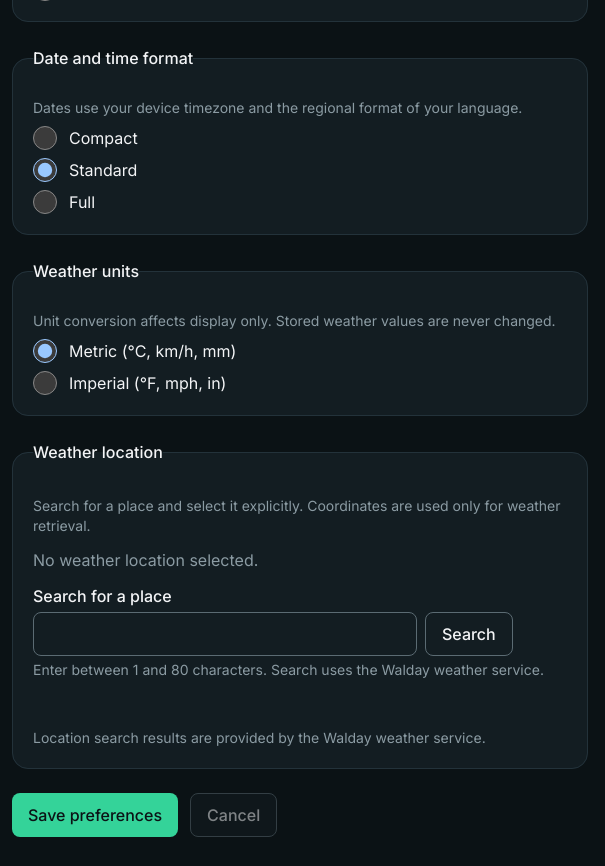
Test: weather location selection (US5) › selects and clears a location explicitly
(page scrolled)
Type "Madrid" into the field labelled "Search for a place".
click(225, 634); type("Madrid")  # box [33, 612, 417, 656]
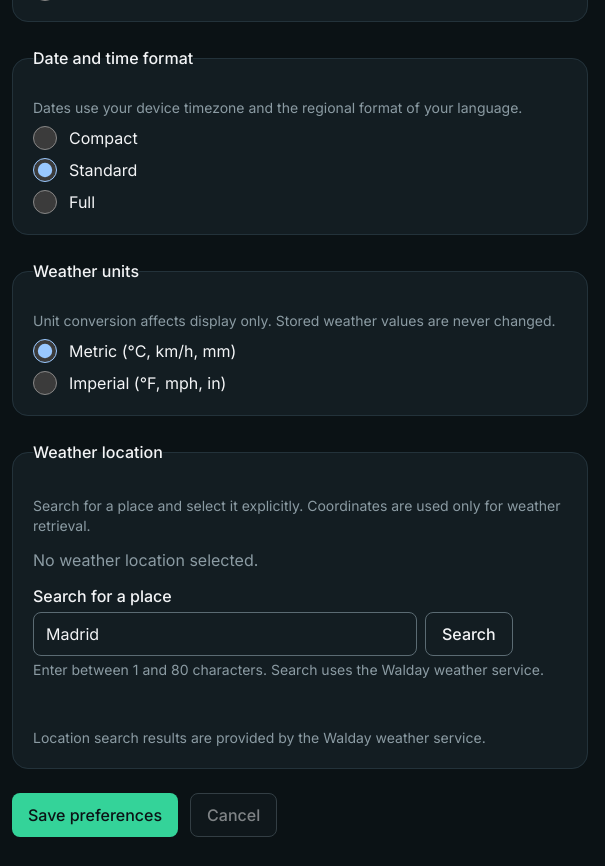
Click the button "Search".
click(469, 634)  # box [425, 612, 513, 656]
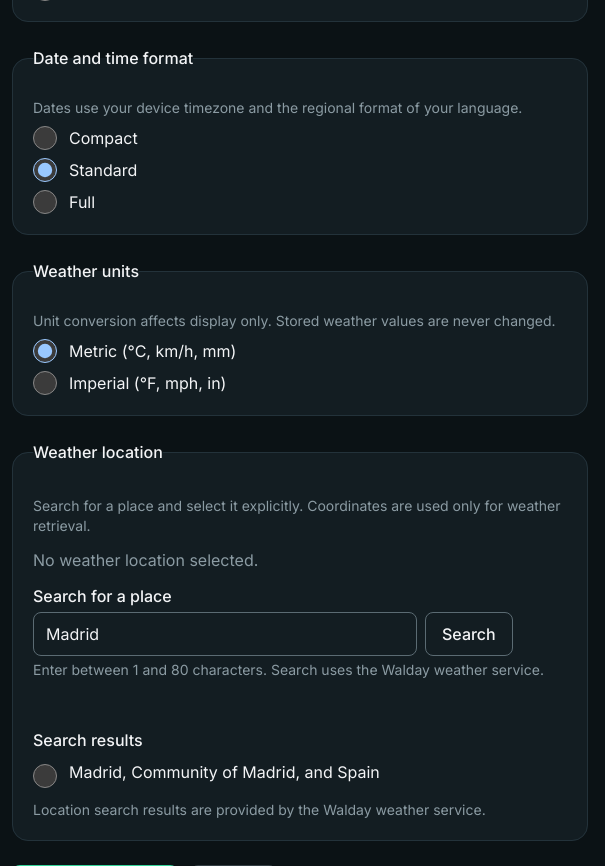
Click the radio button labelled "Madrid, Community of Madrid, and Spain".
click(45, 776)  # box [33, 764, 57, 788]
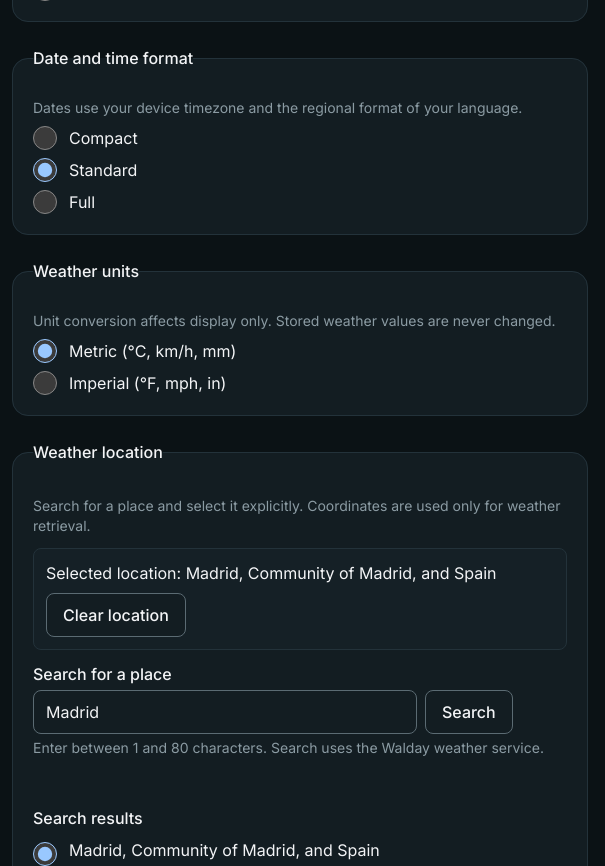
Click the button "Clear location".
click(116, 615)  # box [46, 593, 186, 637]
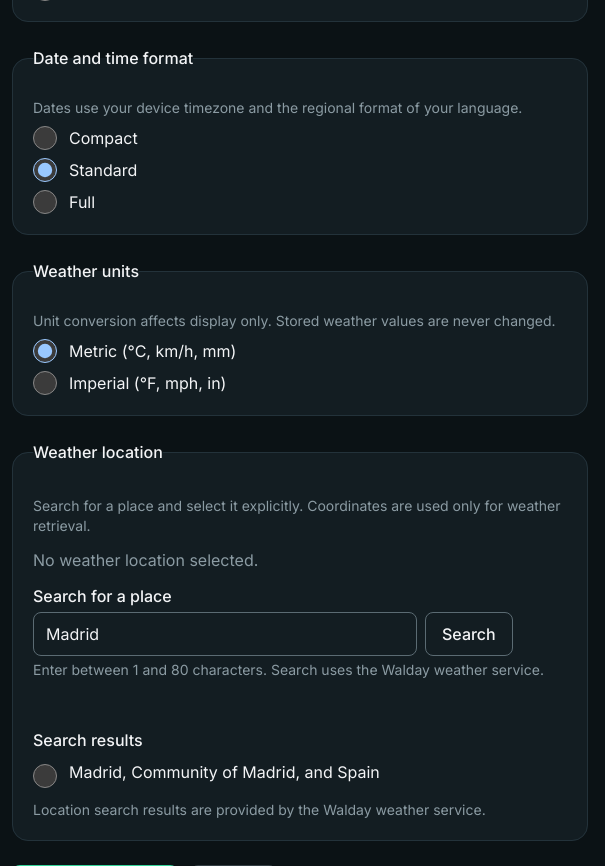
Check: the text "No weather location selected." is shown, box [33, 550, 258, 570]
